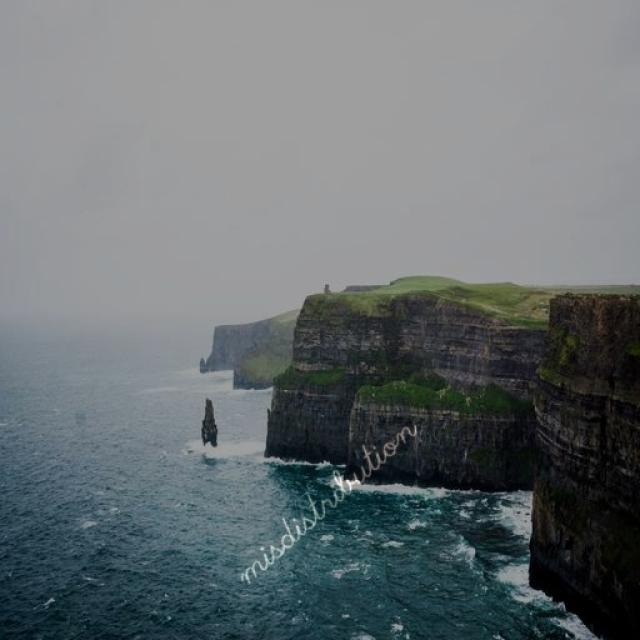watermark: (236, 400, 418, 592)
